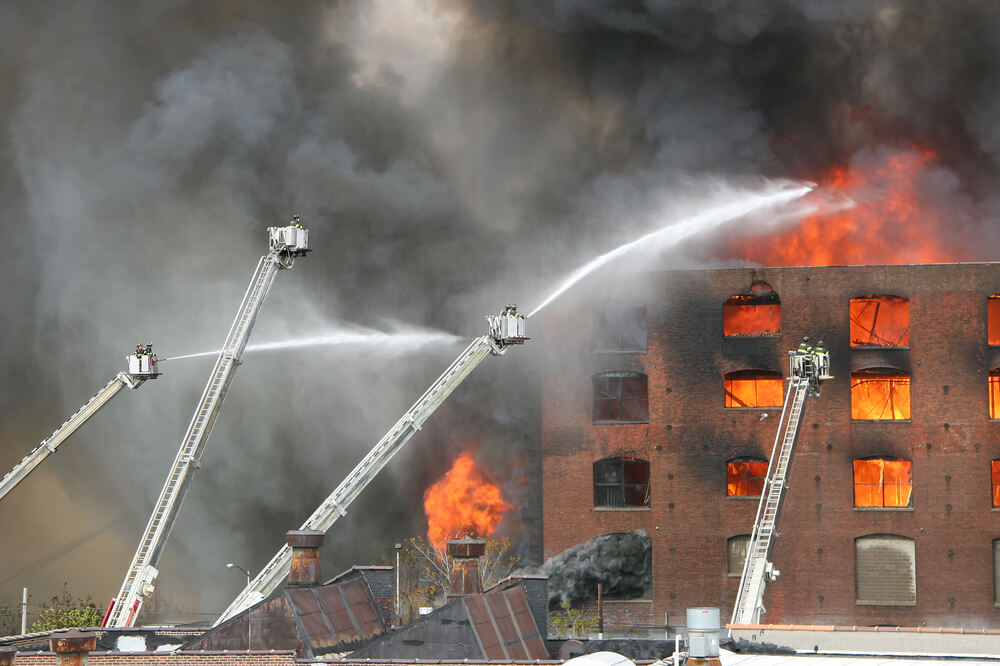Fire: (824, 166, 943, 265), (733, 76, 816, 181), (826, 81, 932, 161), (421, 461, 502, 536), (853, 459, 916, 516), (846, 373, 913, 422), (721, 296, 779, 340), (725, 368, 782, 412), (753, 231, 818, 265)
